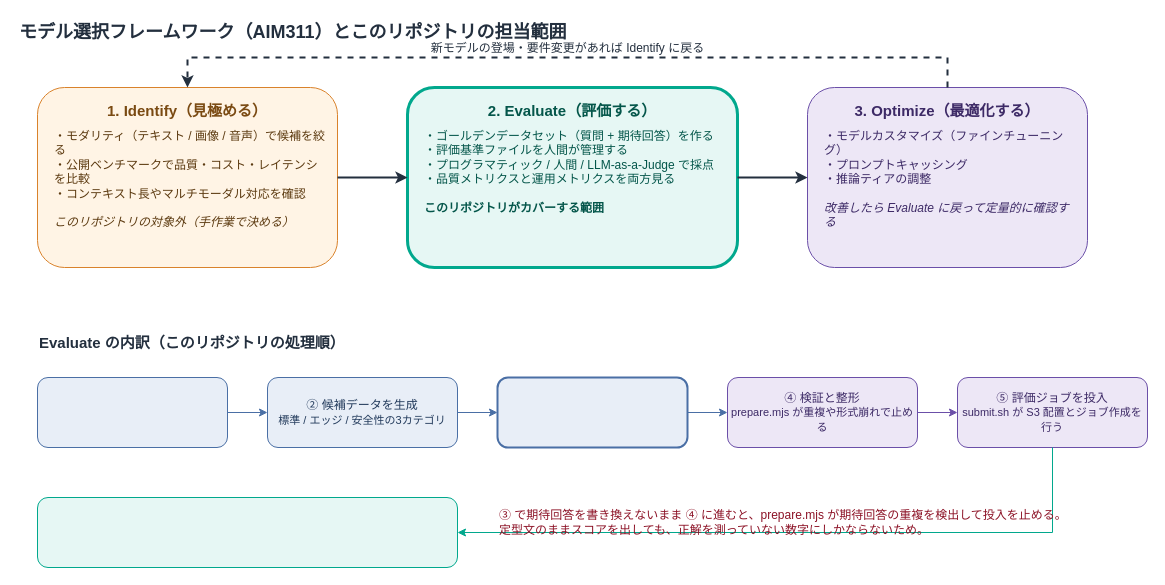
Some shapes in this 1165 by 585 pixel diagram are drawn without their labels. The shapes that lost their labels are listed below. From the top down, each one's centre as x and y in pixels, then its label:
At point (132, 412): "① 生成条件を入力 ユースケース・ペルソナ・評価基準".
At point (592, 412): "③ 人間がレビュー 期待回答を実際の正解に書き換えて承認".
At point (247, 532): "⑥ スコアを比較して採用モデルを決める fetch-results.sh で結果を取得し、品質と運用コストの両面で判断する".
